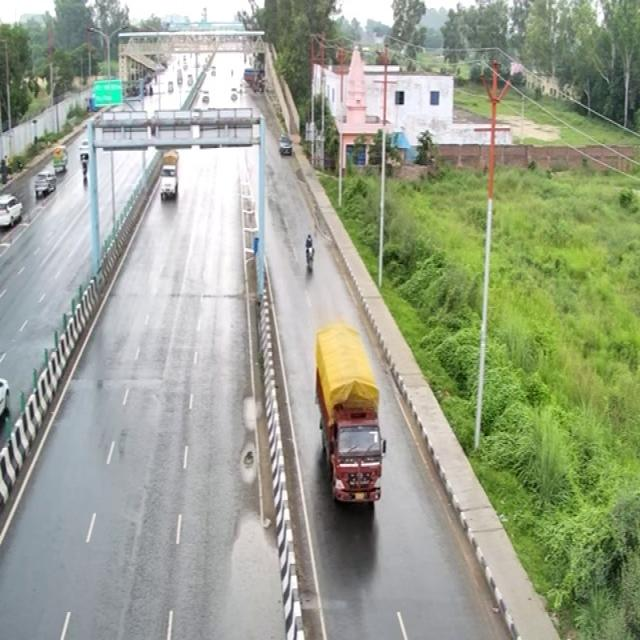car: (208, 111, 243, 152)
